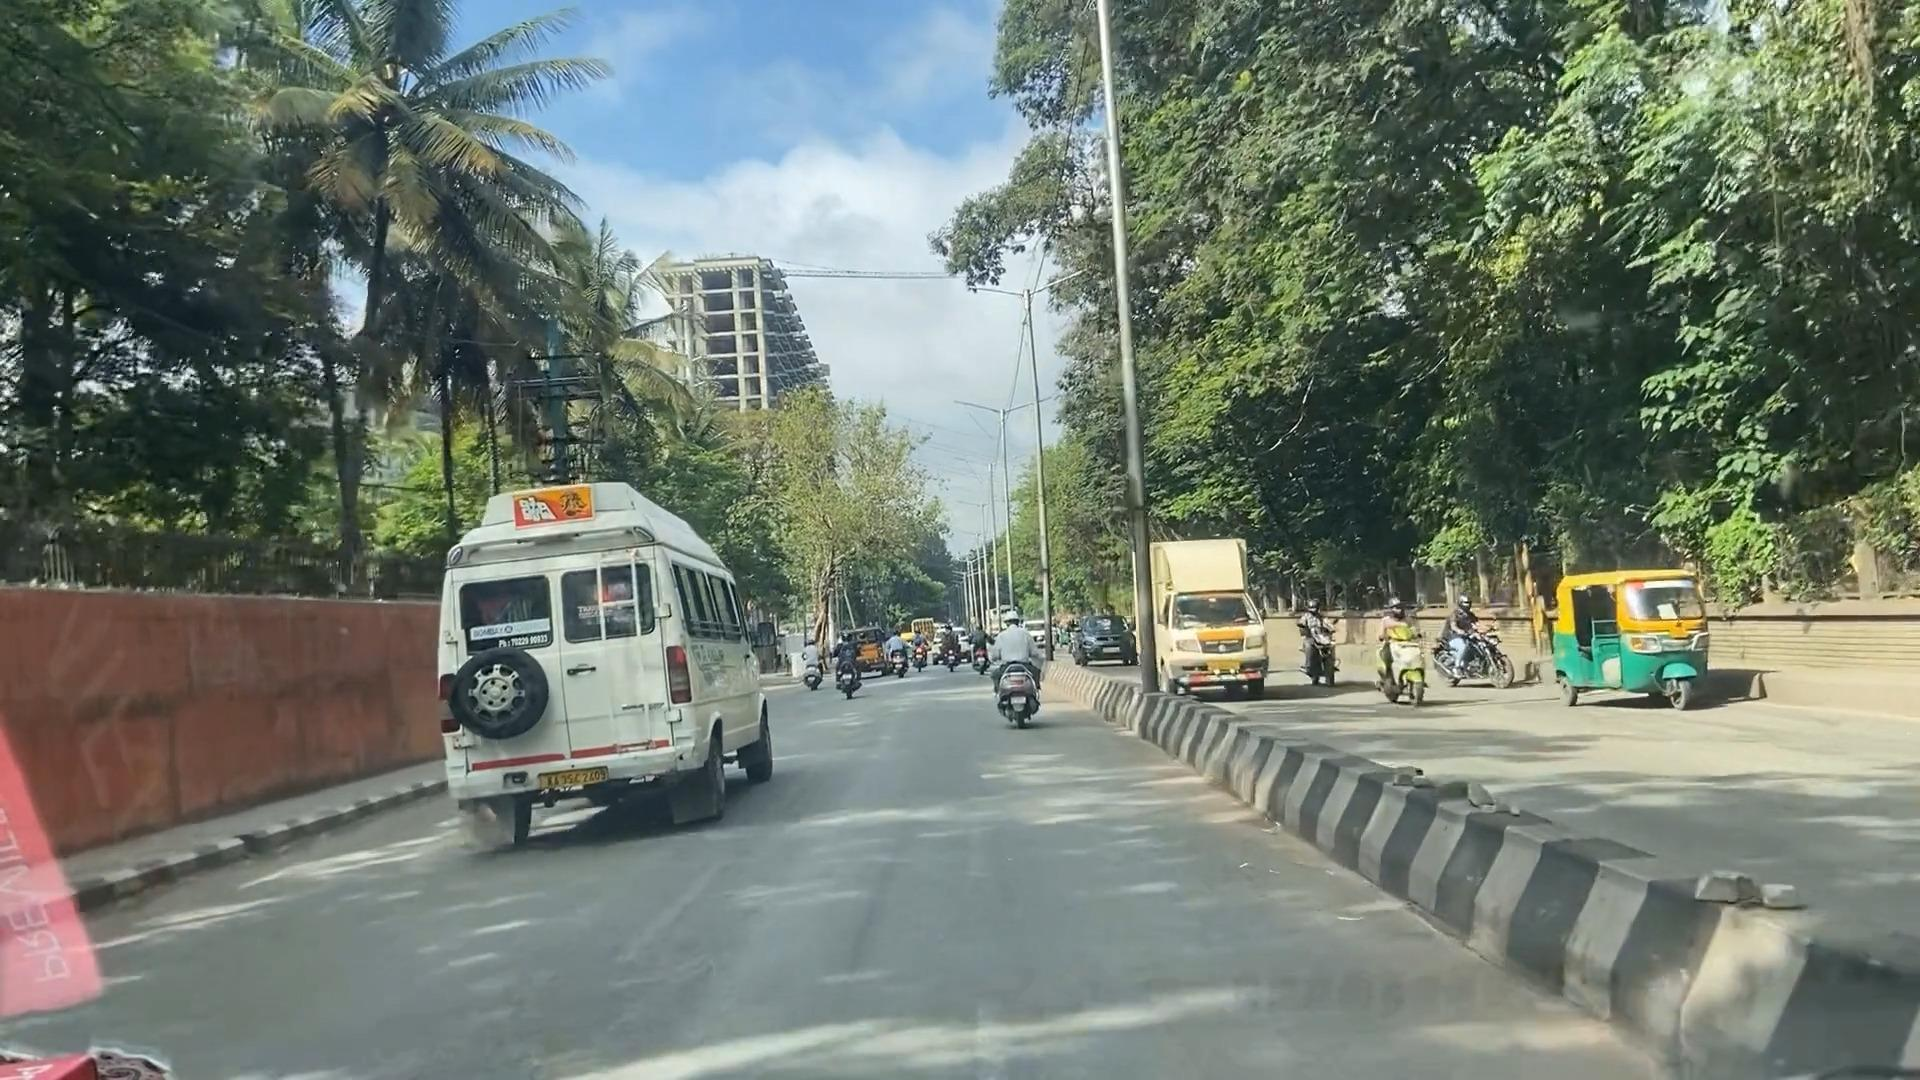HMV: (357, 446, 787, 835)
